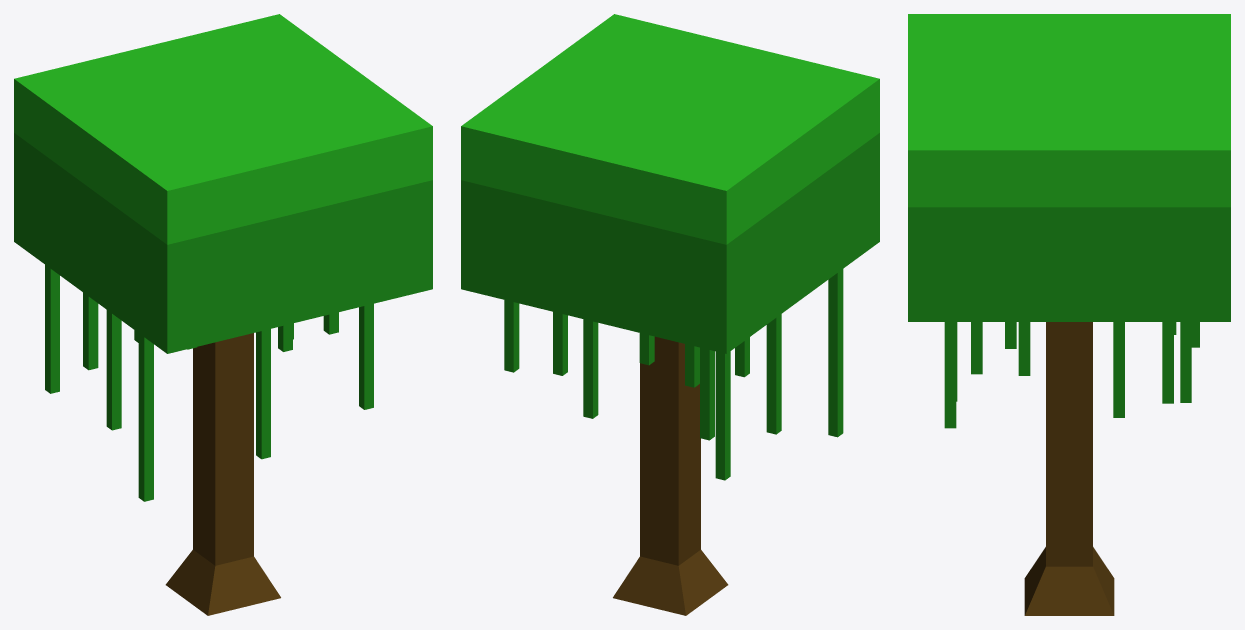
File: cryingtree1.obj
3 views of the same model, side by side, from view 1: azimuth 30°, elevation 25°; view 2: azimuth 150°, elevation 25°; view 3: azimuth 270°, elevation 25° (orthographic). The views are drawn at different scales.
Parts seen in each view (by area): view 1: cryingtree1_Cube.075; view 2: cryingtree1_Cube.075; view 3: cryingtree1_Cube.075.
Boxes of the visible parts, x1,y1,x2,y2 form: cryingtree1_Cube.075: [14, 14, 432, 615]; cryingtree1_Cube.075: [461, 14, 879, 615]; cryingtree1_Cube.075: [908, 14, 1230, 615].
Bounding box in the file's own units: 5.06 × 8.91 × 5.06.
